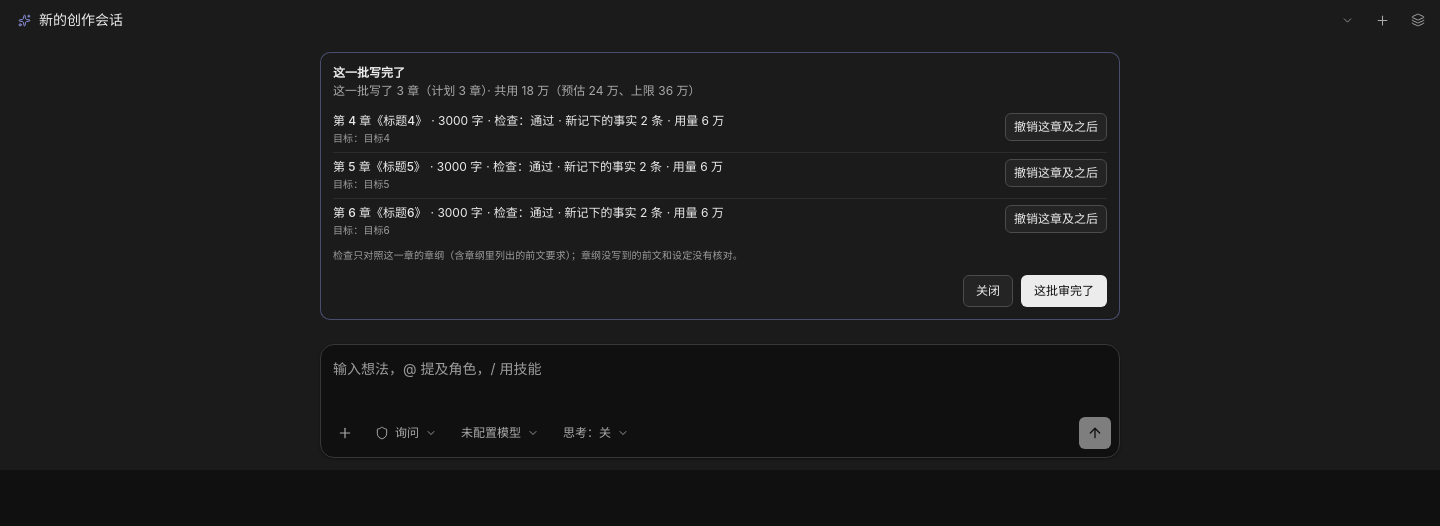
Scenario: 撤销先在行内就地两步确认：第一次点只读地问引擎、变成确认与取消，取消什么都不做
The width and height of the screenshot is (1440, 526).
Click the button "撤销这章及之后" in the row of "目标5": (1056, 173) [1005,159,1107,187]
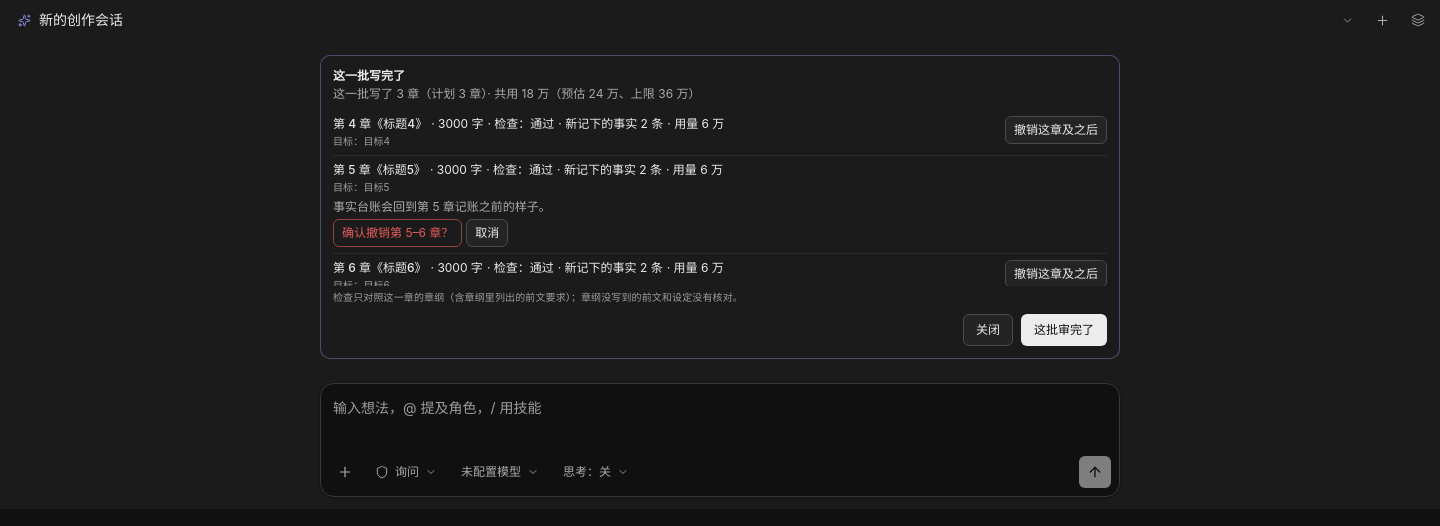
Expected: the button "确认撤销第 5–6 章？" is shown, [333,219,462,247]
Click the button "取消": (487, 233) [466,219,508,247]
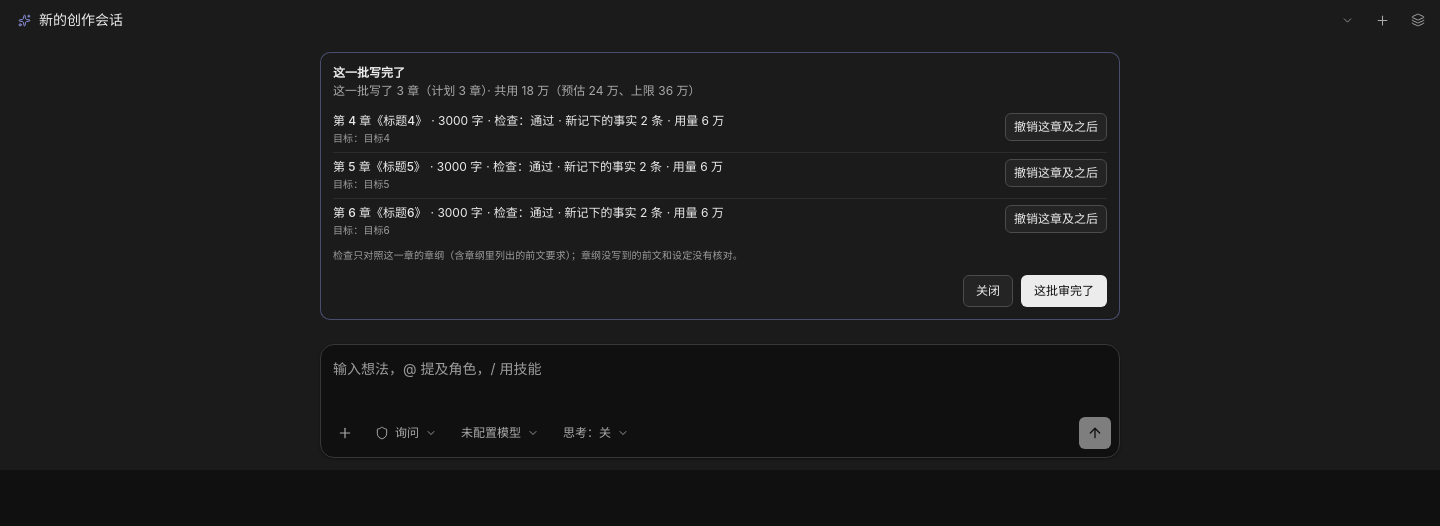
Click the button "撤销这章及之后" in the row of "目标6": (1056, 219) [1005,205,1107,233]
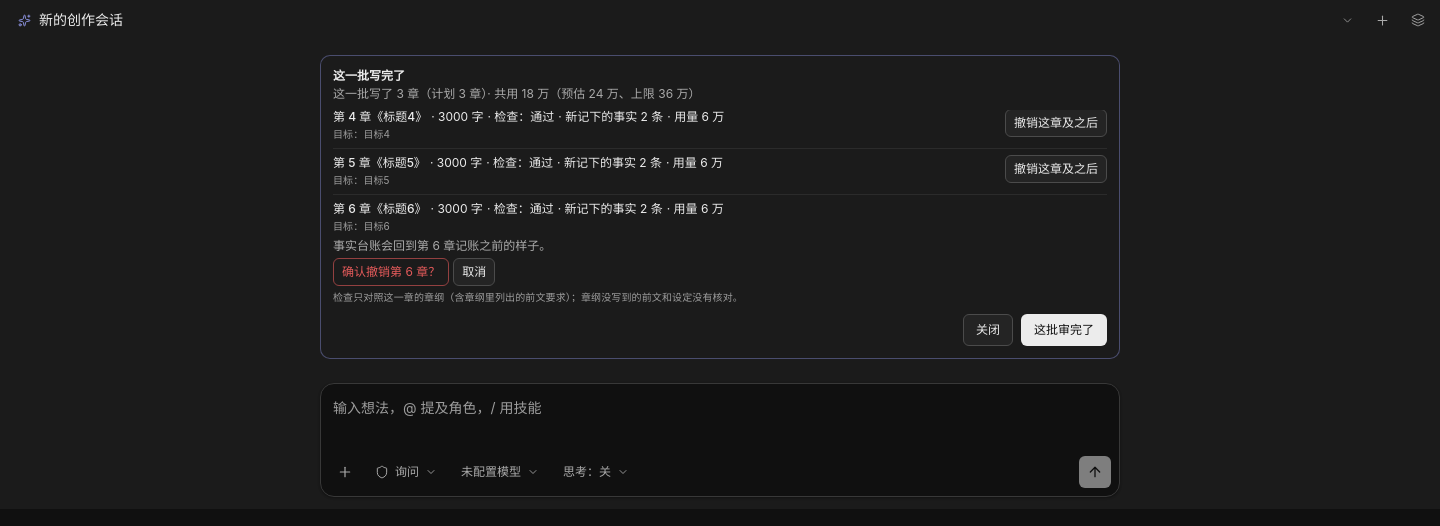
Expected: the button "确认撤销第 6 章？" is shown, [333,258,449,286]
